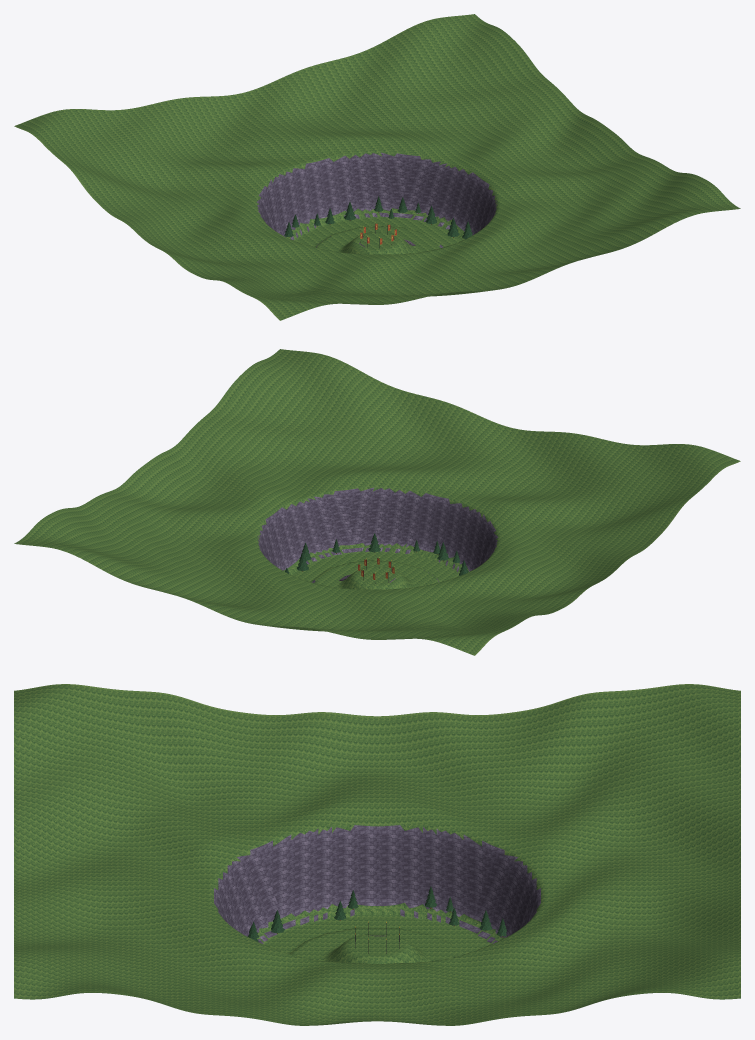
3 views of the same model, one above another, from view 1: azimuth 30°, elevation 25°; view 2: azimuth 150°, elevation 25°; view 3: azimuth 270°, elevation 25° (orthographic). The views are drawn at different scales.
Visible parts, largest first — view 1: Crown Hill; view 2: Crown Hill; view 3: Crown Hill.
Boxes of the visible parts, bbox=[...] form: Crown Hill: bbox=[14, 14, 740, 320]; Crown Hill: bbox=[14, 349, 740, 655]; Crown Hill: bbox=[14, 684, 740, 1025].
Size of the model in its own units: 400 by 80.19 by 400.
8 materials, 8 textured.
